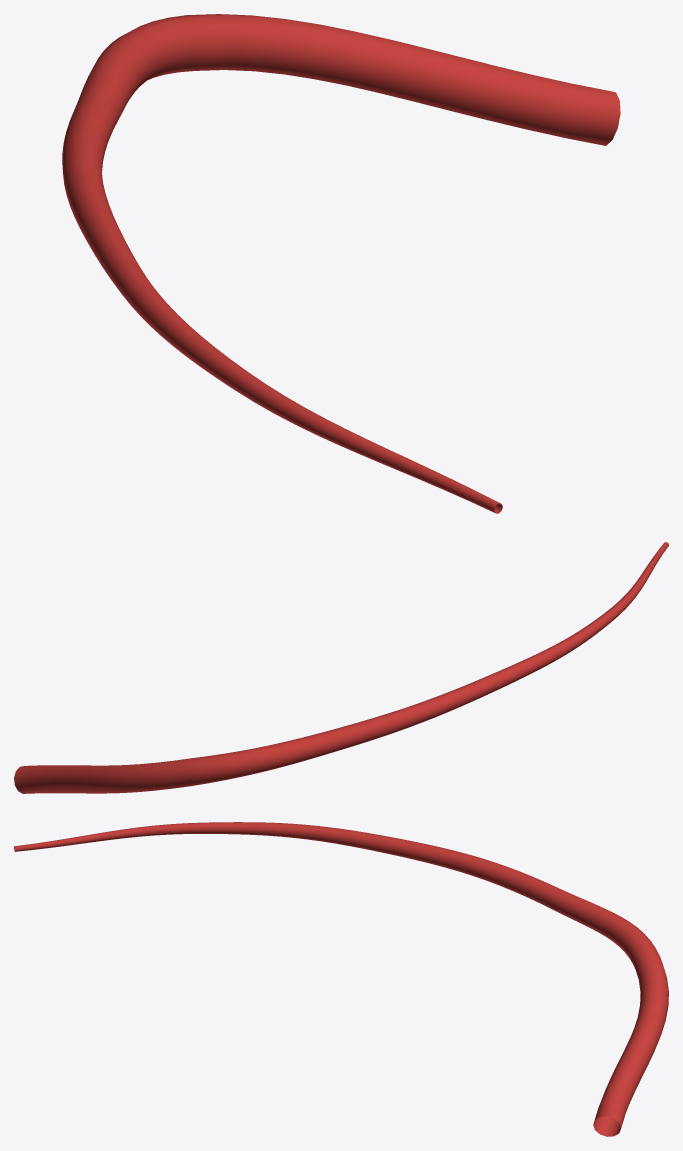
3 renders of one model, top to bottom at view 1: azimuth 30°, elevation 25°; view 2: azimuth 150°, elevation 25°; view 3: azimuth 270°, elevation 25°, orthographic. The views are drawn at different scales.
Parts seen in each view (by area): view 1: 左侧脑膜中动脉副支; view 2: 左侧脑膜中动脉副支; view 3: 左侧脑膜中动脉副支.
Boxes of the visible parts, box(x1,y1,x2,y2) form: 左侧脑膜中动脉副支: box(62, 14, 620, 513); 左侧脑膜中动脉副支: box(14, 542, 668, 793); 左侧脑膜中动脉副支: box(14, 822, 668, 1136).
Size of the model in its own units: 0.0237 by 0.00727 by 0.0339.
